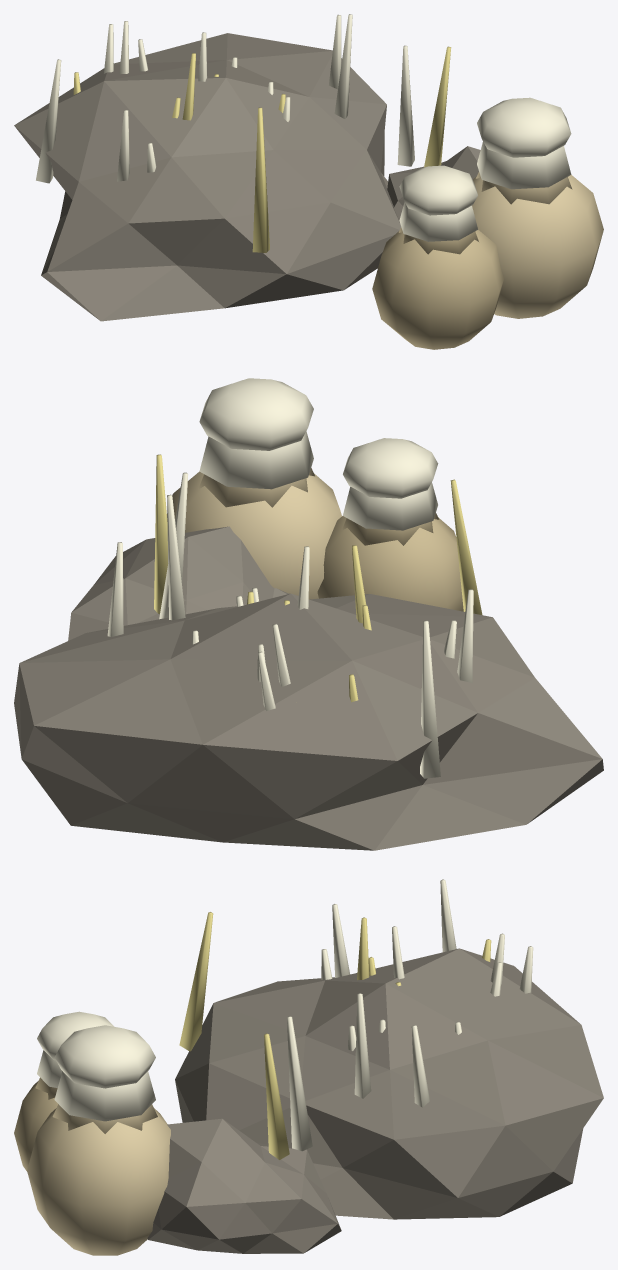
The model's file is resource_niter.fbx.
The picture shows the model from 3 angles, top to bottom: view 1: azimuth 30°, elevation 25°; view 2: azimuth 150°, elevation 25°; view 3: azimuth 270°, elevation 25°; orthographic projection. The views are drawn at different scales.
Visible parts, largest first — view 1: resource_niter_rock#8a8478_00, resource_niter_burlap#d8c8a0_03, resource_niter_sackc#f4f0d8_04, resource_niter_burlap#c8b890_05, resource_niter_niter_02, resource_niter_niteryl_01; view 2: resource_niter_rock#8a8478_00, resource_niter_sackc#f4f0d8_04, resource_niter_burlap#d8c8a0_03, resource_niter_burlap#c8b890_05, resource_niter_niter_02, resource_niter_niteryl_01; view 3: resource_niter_rock#8a8478_00, resource_niter_burlap#d8c8a0_03, resource_niter_sackc#f4f0d8_04, resource_niter_niter_02, resource_niter_niteryl_01, resource_niter_burlap#c8b890_05.
Part boxes in pixels (x1,y1,x2,y2): resource_niter_rock#8a8478_00: (14, 33, 480, 321); resource_niter_burlap#d8c8a0_03: (472, 172, 603, 318); resource_niter_sackc#f4f0d8_04: (399, 97, 571, 241); resource_niter_burlap#c8b890_05: (372, 227, 503, 349); resource_niter_niter_02: (36, 14, 414, 183); resource_niter_niteryl_01: (73, 46, 451, 252); resource_niter_rock#8a8478_00: (14, 526, 603, 850); resource_niter_sackc#f4f0d8_04: (199, 378, 438, 530); resource_niter_burlap#d8c8a0_03: (167, 468, 341, 599); resource_niter_burlap#c8b890_05: (317, 513, 463, 611); resource_niter_niter_02: (107, 472, 473, 778); resource_niter_niteryl_01: (154, 454, 482, 702); resource_niter_rock#8a8478_00: (147, 948, 603, 1253); resource_niter_burlap#d8c8a0_03: (27, 1104, 170, 1255); resource_niter_sackc#f4f0d8_04: (37, 1011, 155, 1121); resource_niter_niter_02: (287, 879, 533, 1151); resource_niter_niteryl_01: (179, 912, 491, 1159); resource_niter_burlap#c8b890_05: (14, 1077, 58, 1171).
Size of the model in its own units: 84.38 by 38.98 by 90.5.
